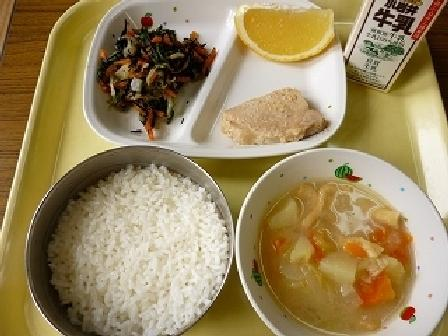Citrus: (228, 5, 345, 65)
Milk: (342, 0, 444, 80)
Rice: (23, 150, 224, 329)
cutlet: (210, 88, 330, 147)
salad with sauce: (95, 15, 210, 119)
vegetable soup: (240, 154, 447, 336)
